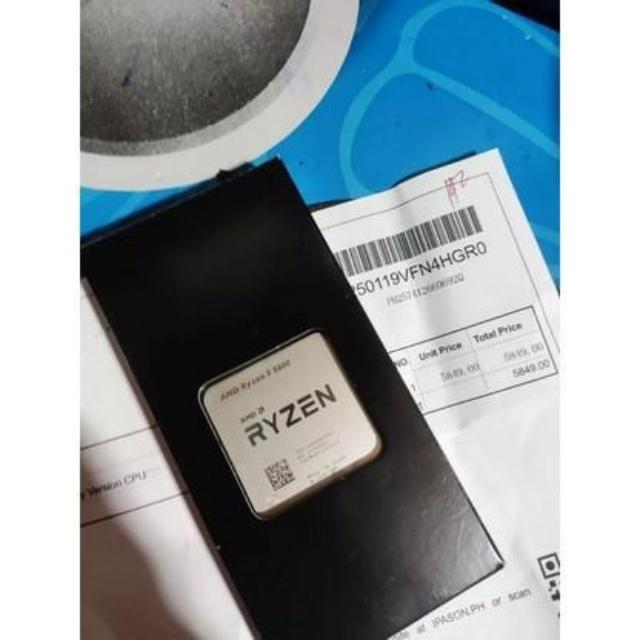CPU: (202, 334, 380, 512)
